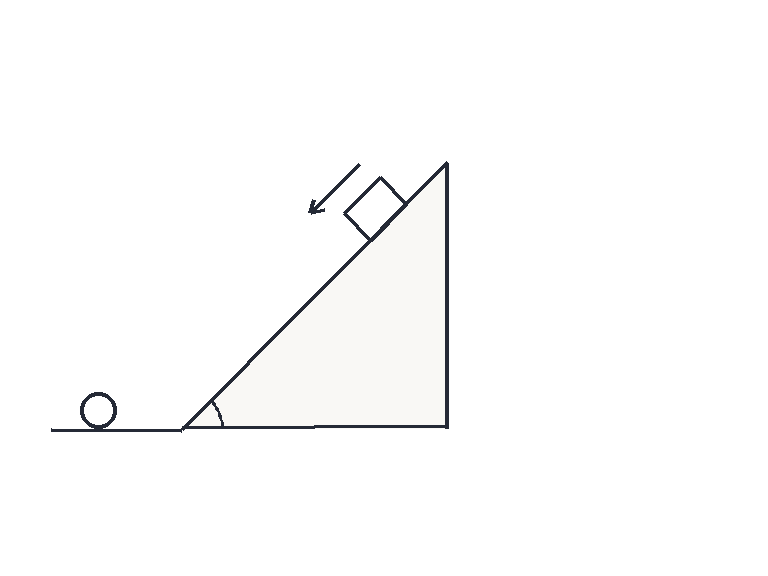ball: (78, 390, 118, 430)
block: (342, 175, 408, 242)
ramp: (180, 162, 448, 430)
